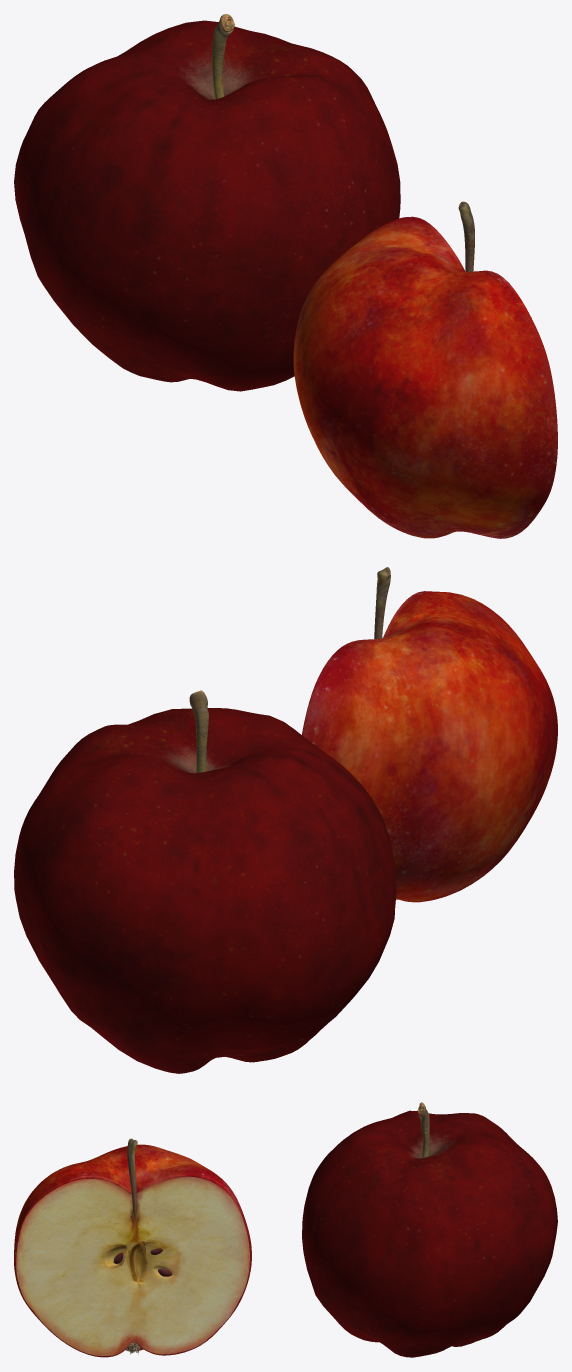
Rendered from apple.fbx.
The picture shows the model from 3 angles, top to bottom: view 1: azimuth 30°, elevation 25°; view 2: azimuth 150°, elevation 25°; view 3: azimuth 270°, elevation 25°; orthographic projection. The views are drawn at different scales.
Visible parts, largest first — view 1: apple, apple_cut; view 2: apple, apple_cut; view 3: apple, apple_cut.
Part boxes in pixels (x1,y1,x2,y2): apple: (14, 14, 400, 391); apple_cut: (293, 201, 557, 538); apple: (14, 690, 396, 1073); apple_cut: (302, 567, 557, 902); apple: (302, 1102, 557, 1357); apple_cut: (14, 1138, 251, 1357).
Bounding box in the file's own units: 6.72 × 7.07 × 14.18.
